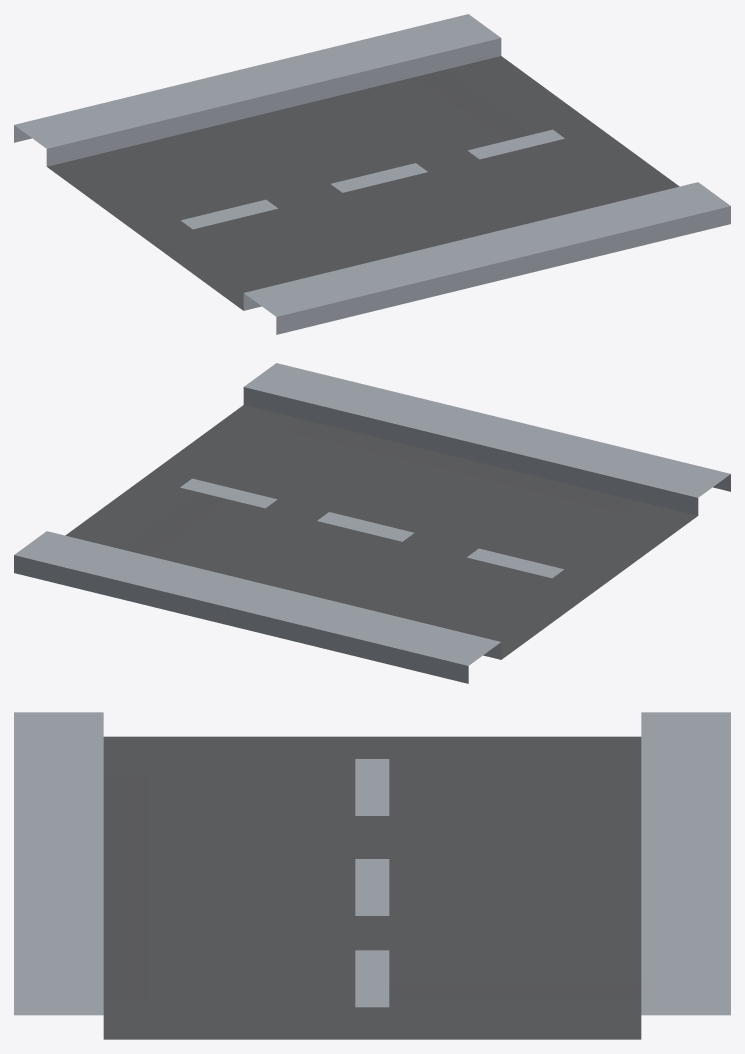
The model's file is Road_Style1.fbx.
The picture shows the model from 3 angles, top to bottom: view 1: azimuth 30°, elevation 25°; view 2: azimuth 150°, elevation 25°; view 3: azimuth 270°, elevation 25°; orthographic projection. The views are drawn at different scales.
Parts seen in each view (by area): view 1: Road_Style1; view 2: Road_Style1; view 3: Road_Style1.
Part boxes in pixels (<box>): Road_Style1: <box>14,14,730,334</box>; Road_Style1: <box>14,363,730,683</box>; Road_Style1: <box>14,712,730,1039</box>.
Bounding box in the file's own units: 2650 × 100 × 2650.
